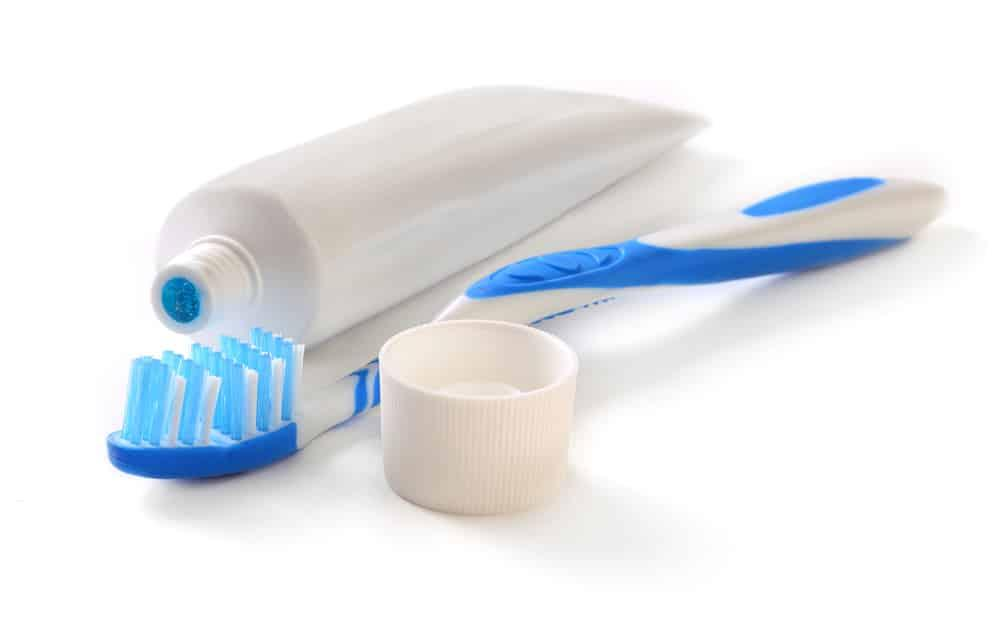toothpaste: (138, 64, 750, 353)
